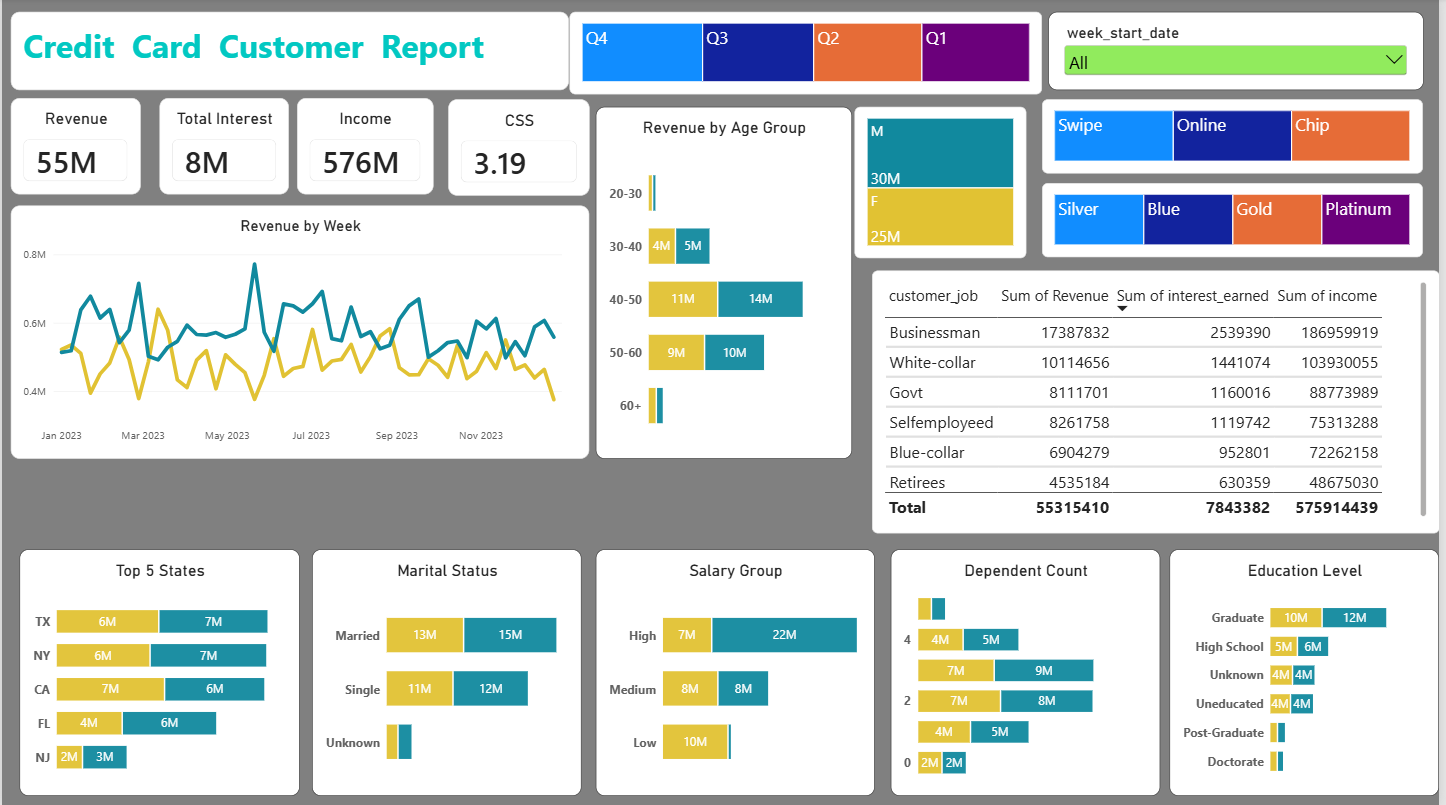

The page's visual inventory and layout, read from the dashboard file:
{"tool":"powerbi","page":{"name":"CC Customer","canvas":[1920,1080],"ordinal":2},"visuals":[{"type":"textbox","box":[10.9,18.1,745.6,105],"z":0},{"type":"barChart","title":" Salary Group","fields":{"Y":["Sum(public cc_detail.Revenue)"],"Category":["public cust_detail.IncomeGroup"],"Series":["public cust_detail.gender"]},"box":[792.6,736.5,372.8,329.4],"z":1000},{"type":"tableEx","fields":{"Values":["public cust_detail.customer_job","Sum(public cc_detail.Revenue)","Sum(public cc_detail.interest_earned)","Sum(public cust_detail.income)"]},"box":[1161.8,363.7,758.2,351.1],"z":2000},{"type":"cardVisual","title":"Revenue","fields":{"Data":["Sum(public cc_detail.Revenue)"]},"box":[10.9,133.9,173.7,128.5],"z":3000},{"type":"cardVisual","title":"Income","fields":{"Data":["Sum(public cust_detail.income)"]},"box":[394.5,133.9,182,128.5],"z":4000},{"type":"cardVisual","title":"Total Interest","fields":{"Data":["Sum(public cc_detail.interest_earned)"]},"box":[209.9,133.9,173,128.5],"z":5000},{"type":"cardVisual","title":"CSS","fields":{"Data":["Avg(public cust_detail.cust_satisfaction_score)"]},"box":[595.4,135.7,189,128.5],"z":6000},{"type":"slicer","fields":{"Values":["public cc_detail.week_start_date"]},"box":[1397.1,18.1,501.3,105],"z":7000},{"type":"treemap","fields":{"Group":["public cc_detail.qtr"],"Values":["Avg(public cc_detail.client_num)"]},"box":[758.2,18.1,631.6,110.4],"z":8000},{"type":"treemap","fields":{"Group":["public cc_detail.card_category"],"Values":["Avg(public cc_detail.client_num)"]},"box":[1389.8,247.9,508.5,99.5],"z":9000},{"type":"lineChart","title":"Revenue by Week","fields":{"Y":["Sum(public cc_detail.Revenue)"],"Series":["public cust_detail.gender"],"Category":["public cc_detail.week_start_date.Variation.Date Hierarchy.Year","public cc_detail.week_start_date.Variation.Date Hierarchy.Month","public cc_detail.week_start_date.Variation.Date Hierarchy.Day"]},"box":[10.9,276.9,772.7,338.4],"z":10000},{"type":"treemap","fields":{"Group":["public cust_detail.gender"],"Values":["Sum(public cc_detail.Revenue)"]},"box":[1138.3,144.8,229.8,202.7],"z":11000},{"type":"barChart","title":"Revenue by Age Group","fields":{"Y":["Sum(public cc_detail.Revenue)"],"Category":["public cust_detail.AgeGroup"],"Series":["public cust_detail.gender"]},"box":[792.6,144.8,342,470.5],"z":12000},{"type":"barChart","title":"Dependent Count","fields":{"Y":["Sum(public cc_detail.Revenue)"],"Category":["public cust_detail.dependent_count"],"Series":["public cust_detail.gender"]},"box":[1187.1,736.5,360.1,329.4],"z":13000},{"type":"barChart","title":" Education Level","fields":{"Y":["Sum(public cc_detail.Revenue)"],"Category":["public cust_detail.education_level"],"Series":["public cust_detail.gender"]},"box":[1559.9,736.5,360.1,329.4],"z":14000},{"type":"barChart","title":"Top 5 States","fields":{"Y":["Sum(public cc_detail.Revenue)"],"Category":["public cust_detail.state_cd"],"Series":["public cust_detail.gender"]},"box":[23.5,736.5,374.6,329.4],"z":15000},{"type":"barChart","title":" Marital  Status","fields":{"Y":["Sum(public cc_detail.Revenue)"],"Category":["public cust_detail.marital_status"],"Series":["public cust_detail.gender"]},"box":[414.4,736.5,360.1,329.4],"z":16000},{"type":"treemap","fields":{"Group":["public cc_detail.use_chip"],"Values":["Avg(public cc_detail.client_num)"]},"box":[1389.8,135.7,508.5,99.5],"z":17000}]}

Visuals, with their boxes in screenshot pixels (x1, y1, x2, y2), scaled from the page's 1920x1080 canvas onto the 1446x805 screenshot:
textbox: detection(8, 13, 570, 92)
" Salary Group" barChart: detection(597, 549, 878, 794)
tableEx - public cust_detail.customer_job x Sum(public cc_detail.Revenue): detection(875, 271, 1445, 533)
"Revenue" cardVisual: detection(8, 100, 139, 196)
"Income" cardVisual: detection(297, 100, 434, 196)
"Total Interest" cardVisual: detection(158, 100, 288, 196)
"CSS" cardVisual: detection(448, 101, 591, 197)
slicer - public cc_detail.week_start_date: detection(1052, 13, 1430, 92)
treemap - public cc_detail.qtr x Avg(public cc_detail.client_num): detection(571, 13, 1047, 96)
treemap - public cc_detail.card_category x Avg(public cc_detail.client_num): detection(1047, 185, 1430, 259)
"Revenue by Week" lineChart: detection(8, 206, 590, 459)
treemap - public cust_detail.gender x Sum(public cc_detail.Revenue): detection(857, 108, 1030, 259)
"Revenue by Age Group" barChart: detection(597, 108, 854, 459)
"Dependent Count" barChart: detection(894, 549, 1165, 794)
" Education Level" barChart: detection(1175, 549, 1445, 794)
"Top 5 States" barChart: detection(18, 549, 300, 794)
" Marital  Status" barChart: detection(312, 549, 583, 794)
treemap - public cc_detail.use_chip x Avg(public cc_detail.client_num): detection(1047, 101, 1430, 175)
